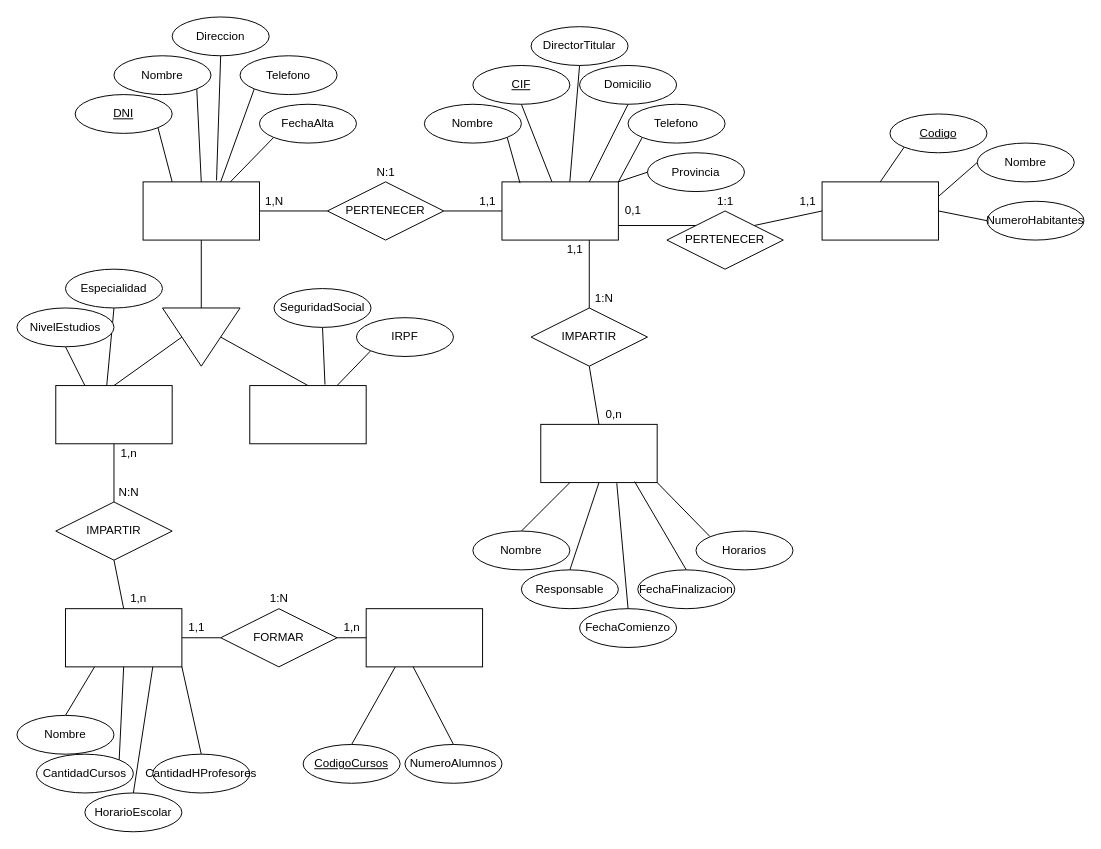
The diagram is 1101 pixels wide and 849 high, and some of its shapes have lost their labels. The centre of each missing label's shape, as x and y in pixels:
"CENTRO" belongs at (559,210).
"CURSOS" belongs at (424,637).
"EXTRAESCOLARES" belongs at (598,453).
"LOCALIDADES" belongs at (879,210).
"PERSONAL SERVICIO" belongs at (307,414).
"PROFESORES" belongs at (113,414).
"SECCIONES" belongs at (123,637).
"TRABAJADORES" belongs at (200,210).
